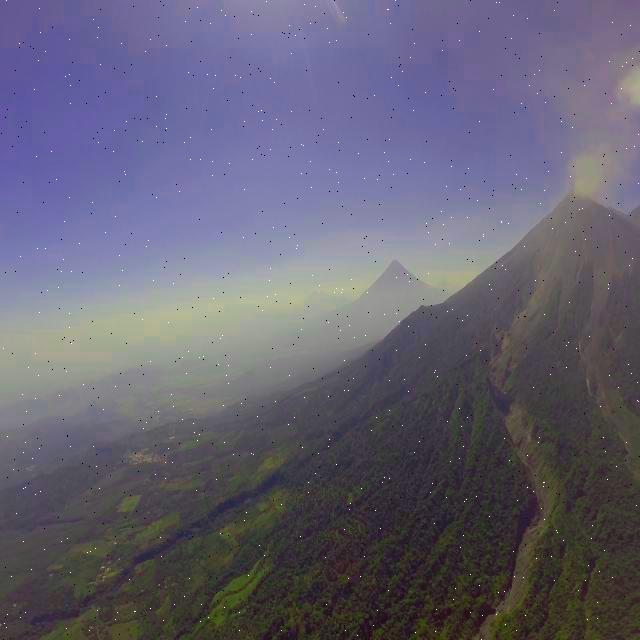Plume: (566, 140, 622, 196), (610, 60, 640, 118)
